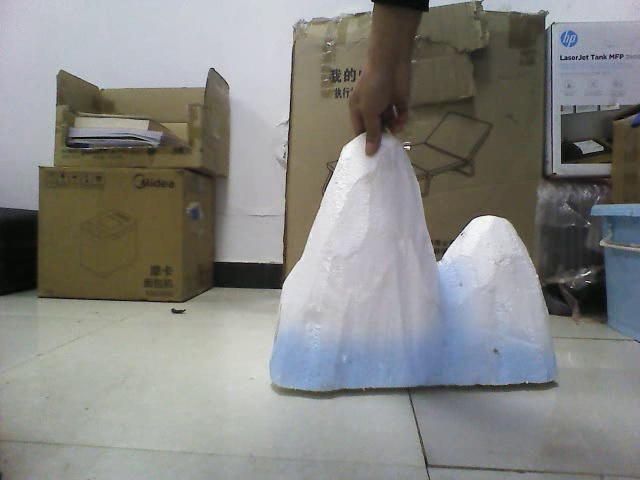iceberg: (264, 124, 563, 393)
